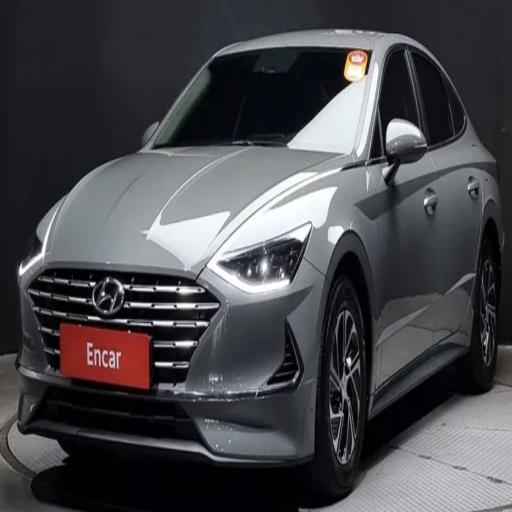normal: (14, 8, 508, 489)
